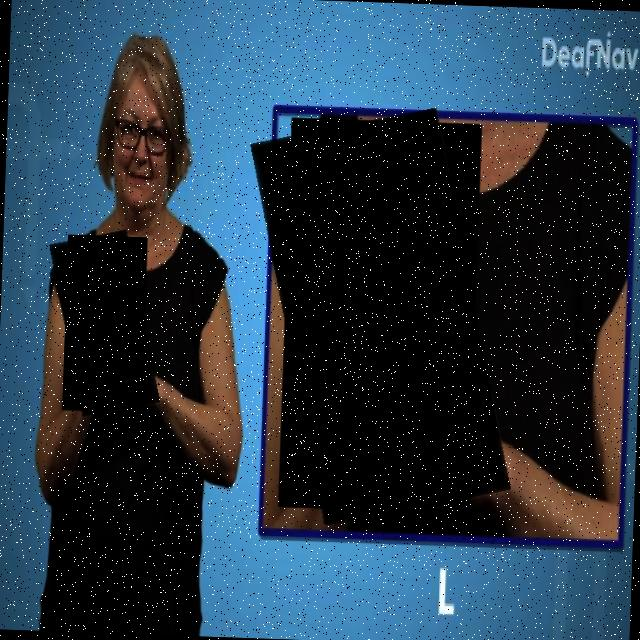L: (259, 110, 503, 523), (53, 232, 157, 418)
